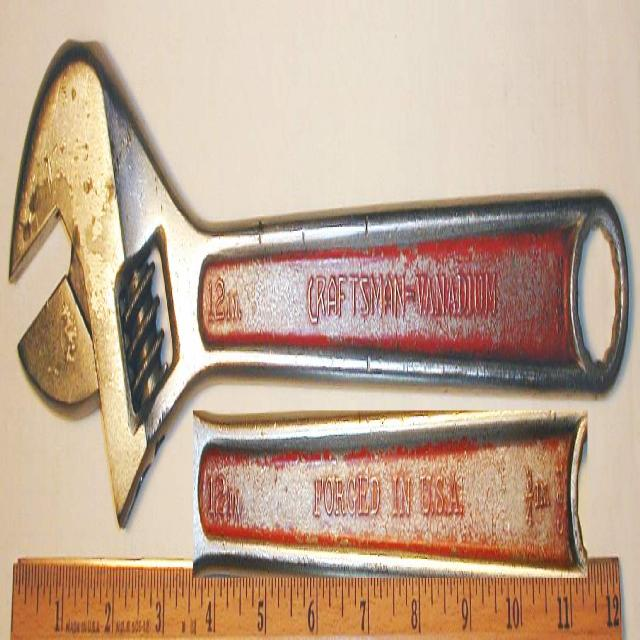wrench: (3, 32, 640, 494)
